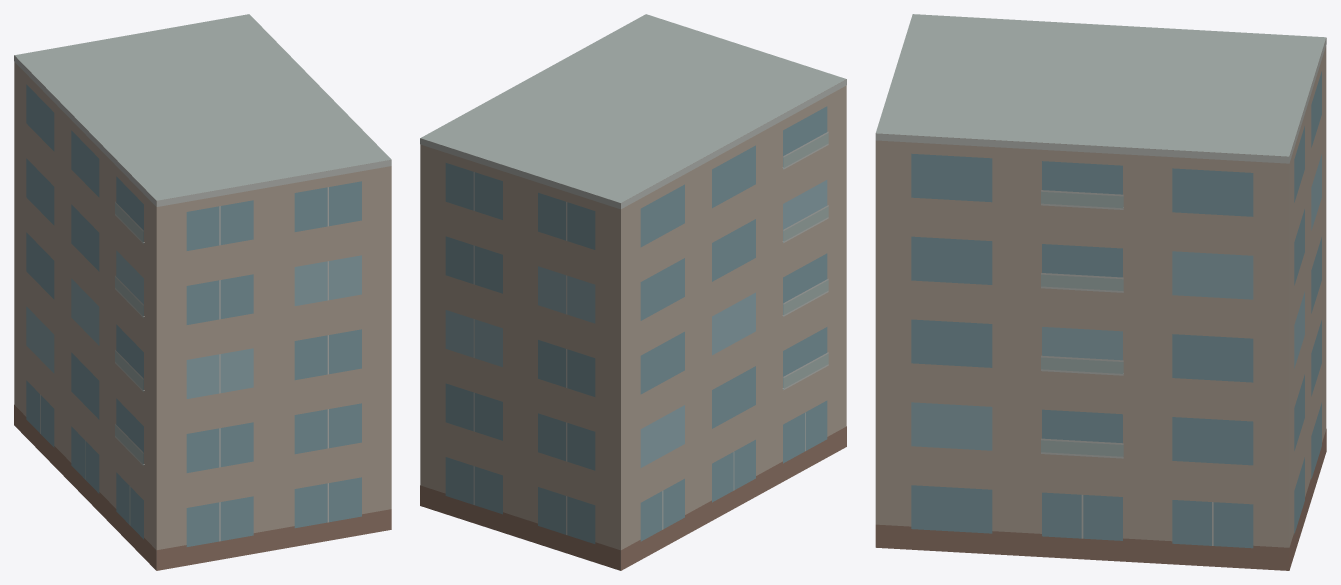
The model's file is survey-upis-32637701.glb.
3 views of the same model, side by side, from view 1: azimuth 30°, elevation 25°; view 2: azimuth 150°, elevation 25°; view 3: azimuth 270°, elevation 25° (orthographic). The views are drawn at different scales.
Visible parts, largest first — view 1: survey-upis-32637701.tmp; view 2: survey-upis-32637701.tmp; view 3: survey-upis-32637701.tmp.
Boxes of the visible parts, box(x1,y1,x2,y2) form: survey-upis-32637701.tmp: box(14, 14, 391, 570); survey-upis-32637701.tmp: box(420, 14, 846, 570); survey-upis-32637701.tmp: box(875, 14, 1326, 570).
Bounding box in the file's own units: 10.56 × 14.3 × 14.11.
